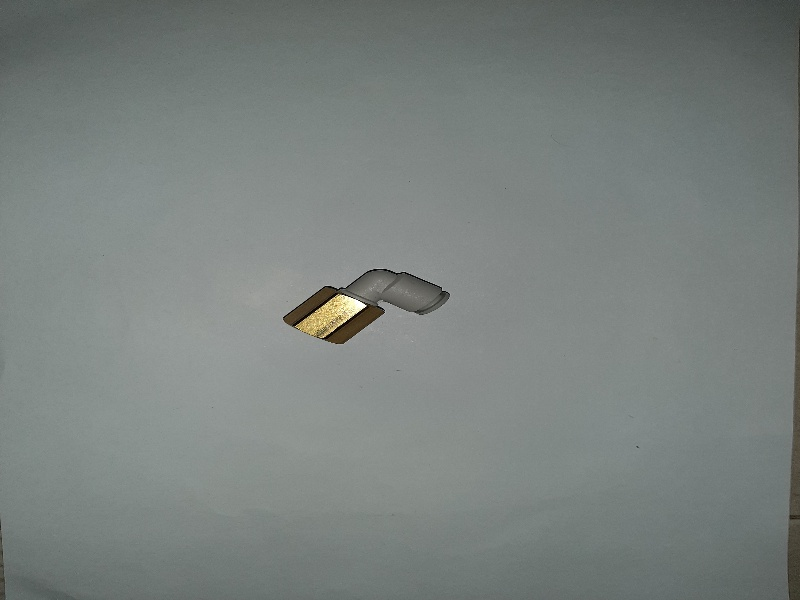Connector: (281, 259, 452, 346)
